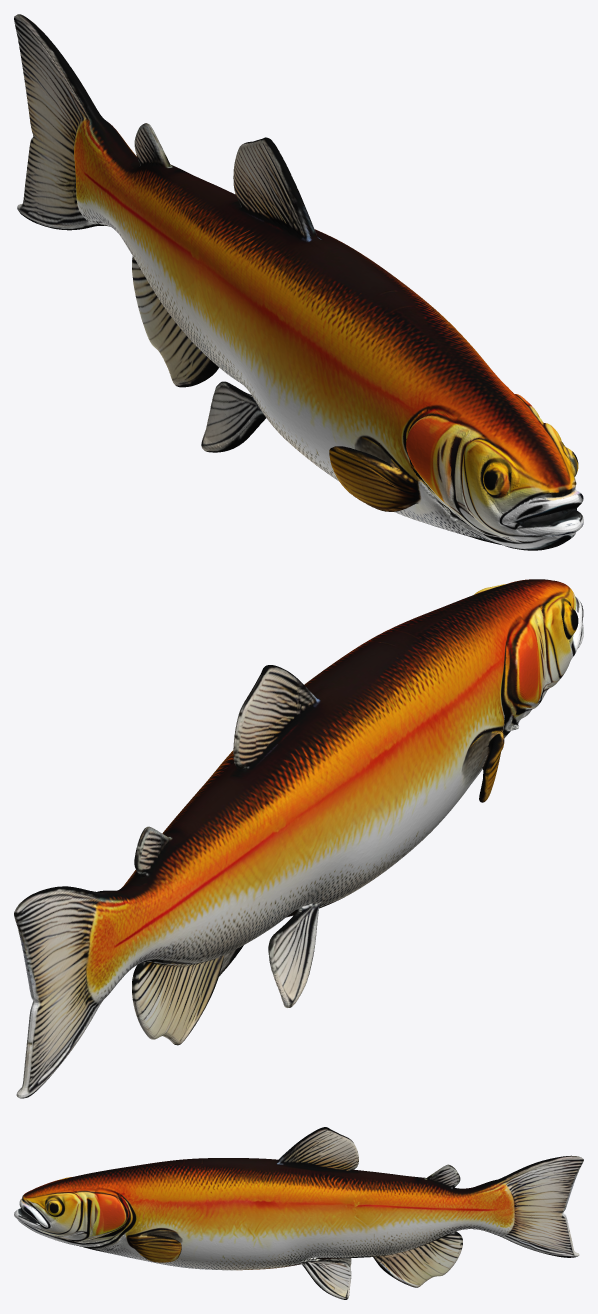
Rendered from salmon+3d+model.glb.
The picture shows the model from 3 angles, top to bottom: view 1: azimuth 30°, elevation 25°; view 2: azimuth 150°, elevation 25°; view 3: azimuth 270°, elevation 25°; orthographic projection. The views are drawn at different scales.
Parts seen in each view (by area): view 1: tripo_node_94c445e6-11af-48de-8174-36a087be4788; view 2: tripo_node_94c445e6-11af-48de-8174-36a087be4788; view 3: tripo_node_94c445e6-11af-48de-8174-36a087be4788.
Part boxes in pixels (left/top/right/bottom): tripo_node_94c445e6-11af-48de-8174-36a087be4788: left=14, top=14, right=583, bottom=550; tripo_node_94c445e6-11af-48de-8174-36a087be4788: left=14, top=579, right=583, bottom=1098; tripo_node_94c445e6-11af-48de-8174-36a087be4788: left=14, top=1127, right=583, bottom=1299.
Bounding box in the file's own units: 0.1665 × 0.3141 × 1.
Materials: 1 (1 with a texture image).
